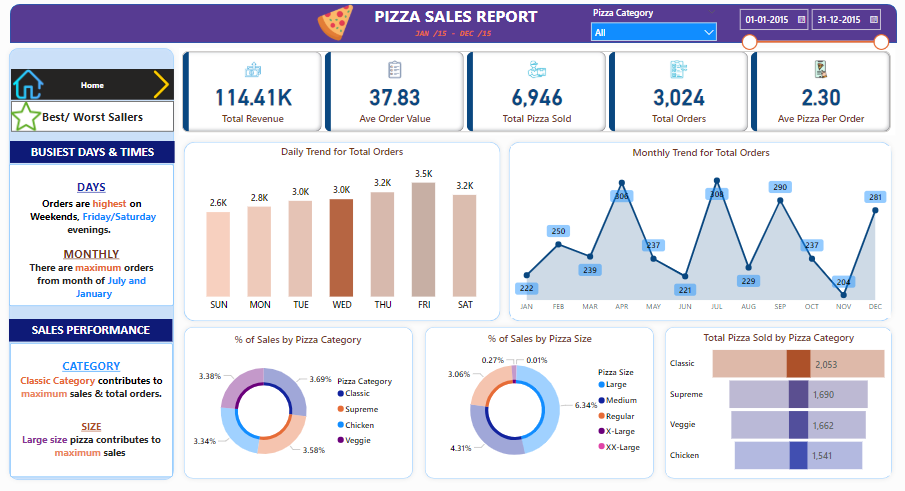

What the dashboard file says about the page in this screenshot:
{"tool":"powerbi","page":{"name":"Home","canvas":[1500,820],"ordinal":0},"visuals":[{"type":"shape","box":[16.7,78.3,286.7,725],"z":0},{"type":"textbox","box":[25.7,240,270,35.7],"z":1000},{"type":"cardVisual","fields":{"Data":["pizza_sales.Total Revenue","pizza_sales.Ave Order Value","pizza_sales.Total Pizza Sold","pizza_sales.Total Orders","pizza_sales.Ave Pizza Per Order"]},"box":[303.3,86.7,1175,143.3],"z":2000},{"type":"shape","box":[26.2,14.8,1454.7,64],"z":3000},{"type":"textbox","box":[603.5,9.8,300.1,49.2],"z":4000},{"type":"textbox","box":[685.5,47.6,157.4,27.9],"z":5000},{"type":"image","box":[523.2,9.8,73.8,70.5],"z":6000},{"type":"shape","box":[303.3,233.3,535,310],"z":7000},{"type":"columnChart","title":"Daily Trend for Total Orders","fields":{"Category":["pizza_sales.Order Day"],"Y":["pizza_sales.Total Orders"]},"box":[316.7,246.7,508.3,281.7],"z":8000},{"type":"shape","box":[836.7,233.3,643.3,310],"z":9000},{"type":"areaChart","title":"Monthly Trend for Total Orders","fields":{"Y":["pizza_sales.Total Orders"],"Category":["pizza_sales.Order Month"]},"box":[848.3,248.3,623.3,281.7],"z":10000},{"type":"shape","box":[303.3,536.7,391.7,265],"z":11000},{"type":"shape","box":[1091.7,536.7,388.3,265],"z":12000},{"type":"shape","box":[698.3,536.7,391.7,265],"z":13000},{"type":"donutChart","title":"% of Sales by Pizza Category","fields":{"Category":["pizza_sales.pizza_category"],"Y":["pizza_sales.Total Revenue"]},"box":[316.7,555,363.3,235],"z":14000},{"type":"donutChart","title":"% of Sales by Pizza Size","fields":{"Y":["pizza_sales.Total Revenue"],"Category":["pizza_sales.pizza_size"]},"box":[713.3,553.3,363.3,235],"z":15000},{"type":"funnel","title":"Total Pizza Sold by Pizza Category","fields":{"Y":["pizza_sales.Total Pizza Sold"],"Category":["pizza_sales.pizza_category"]},"box":[1103.3,551.7,366.7,236.7],"z":16000},{"type":"textbox","box":[25,276.7,270,233.3],"z":17000},{"type":"textbox","box":[26.7,570,266.7,220],"z":18000},{"type":"textbox","box":[25,531.7,268.3,36.7],"z":19000},{"type":"slicer","fields":{"Values":["pizza_sales.pizza_category"]},"box":[969.2,13.1,226.3,62.3],"z":20000},{"type":"multiRowCard","fields":{"Values":["pizza_sales.order_date"]},"box":[1210.3,13.1,265.7,83.6],"z":21000},{"type":"pageNavigator","box":[27.1,121.4,267.1,50],"z":22000},{"type":"pageNavigator","box":[27.1,174.3,267.1,50],"z":23000},{"type":"image","box":[246.7,118.3,56.7,56.7],"z":24000},{"type":"image","box":[26.7,116.7,60,60],"z":25000},{"type":"image","box":[20,168.3,66.7,60],"z":26000}]}

Visuals, with their boxes in screenshot pixels (x1, y1, x2, y2), scaled from the page's 1500x820 canvas onto the 905x491 screenshot:
shape: (left=10, top=47, right=183, bottom=481)
textbox: (left=16, top=144, right=178, bottom=165)
cardVisual - pizza_sales.Total Revenue x pizza_sales.Ave Order Value: (left=183, top=52, right=892, bottom=138)
shape: (left=16, top=9, right=893, bottom=47)
textbox: (left=364, top=6, right=545, bottom=35)
textbox: (left=414, top=29, right=509, bottom=45)
image: (left=316, top=6, right=360, bottom=48)
shape: (left=183, top=140, right=506, bottom=325)
"Daily Trend for Total Orders" columnChart: (left=191, top=148, right=498, bottom=316)
shape: (left=505, top=140, right=893, bottom=325)
"Monthly Trend for Total Orders" areaChart: (left=512, top=149, right=888, bottom=317)
shape: (left=183, top=321, right=419, bottom=480)
shape: (left=659, top=321, right=893, bottom=480)
shape: (left=421, top=321, right=658, bottom=480)
"% of Sales by Pizza Category" donutChart: (left=191, top=332, right=410, bottom=473)
"% of Sales by Pizza Size" donutChart: (left=430, top=331, right=650, bottom=472)
"Total Pizza Sold by Pizza Category" funnel: (left=666, top=330, right=887, bottom=472)
textbox: (left=15, top=166, right=178, bottom=305)
textbox: (left=16, top=341, right=177, bottom=473)
textbox: (left=15, top=318, right=177, bottom=340)
slicer - pizza_sales.pizza_category: (left=585, top=8, right=721, bottom=45)
multiRowCard - pizza_sales.order_date: (left=730, top=8, right=891, bottom=58)
pageNavigator: (left=16, top=73, right=178, bottom=103)
pageNavigator: (left=16, top=104, right=178, bottom=134)
image: (left=149, top=71, right=183, bottom=105)
image: (left=16, top=70, right=52, bottom=106)
image: (left=12, top=101, right=52, bottom=137)
